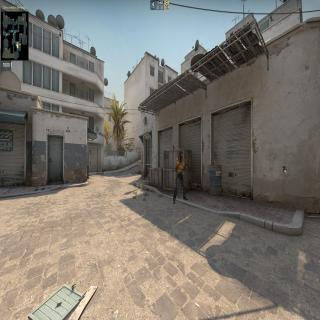T-Head: (179, 149, 184, 160)
